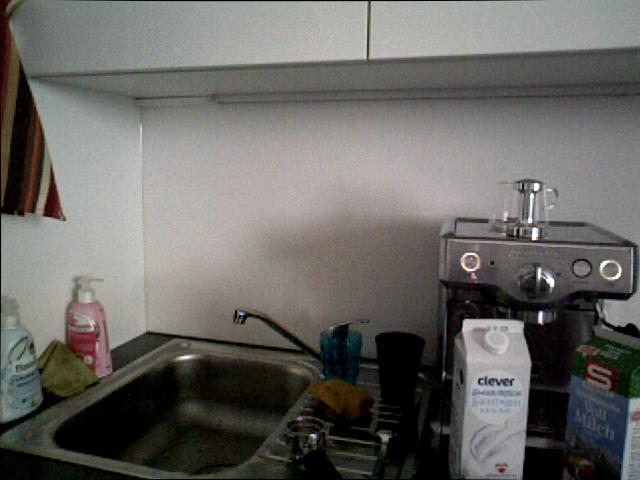bench: (450, 317, 528, 480), (572, 330, 640, 480), (2, 292, 43, 423), (65, 272, 112, 383)
couch: (57, 355, 310, 462)
handbag: (374, 330, 425, 406), (492, 180, 559, 235), (315, 328, 359, 390)
